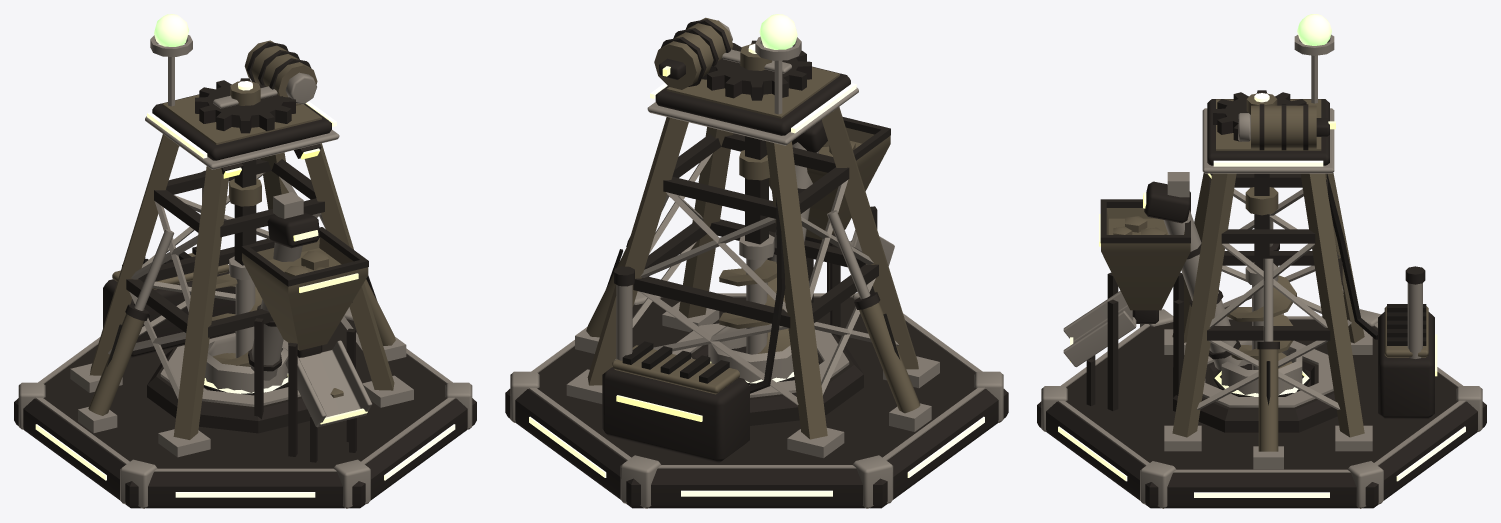
File: fac_mine.glb
3 renders of one model, left to right at view 1: azimuth 30°, elevation 25°; view 2: azimuth 150°, elevation 25°; view 3: azimuth 270°, elevation 25°, orthographic. The views are drawn at different scales.
Visible parts, largest first — view 1: base, spin, lamp; view 2: base, spin, lamp; view 3: base, spin, lamp.
Part boxes in pixels (x1,y1,x2,y2): base: (14,40,476,508); spin: (195,78,295,366); lamp: (150,14,192,56); base: (505,17,1008,508); spin: (702,40,811,354); lamp: (755,14,801,60); base: (1037,55,1486,508); spin: (1213,90,1306,369); lamp: (1294,14,1334,55).
Bounding box in the file's own units: 1.8 × 1.96 × 2.05.
